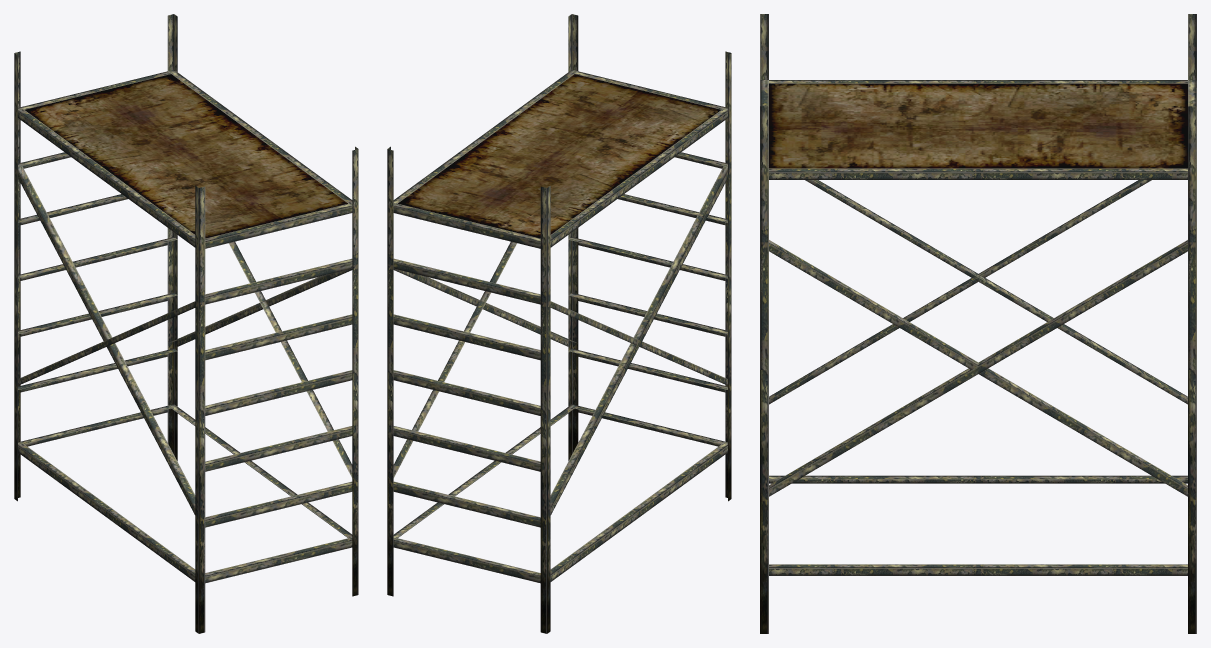
Rendered from scaffolding01.fbx.
3 views of the same model, side by side, from view 1: azimuth 30°, elevation 25°; view 2: azimuth 150°, elevation 25°; view 3: azimuth 270°, elevation 25° (orthographic). The views are drawn at different scales.
Visible parts, largest first — view 1: mesh_0; view 2: mesh_0; view 3: mesh_0.
Boxes of the visible parts, x1=… form: mesh_0: x1=14, y1=14, x2=358, y2=633; mesh_0: x1=387, y1=14, x2=731, y2=633; mesh_0: x1=760, y1=14, x2=1196, y2=633.
Size of the model in its own units: 150 by 400 by 300.
1 material, 1 textured.
